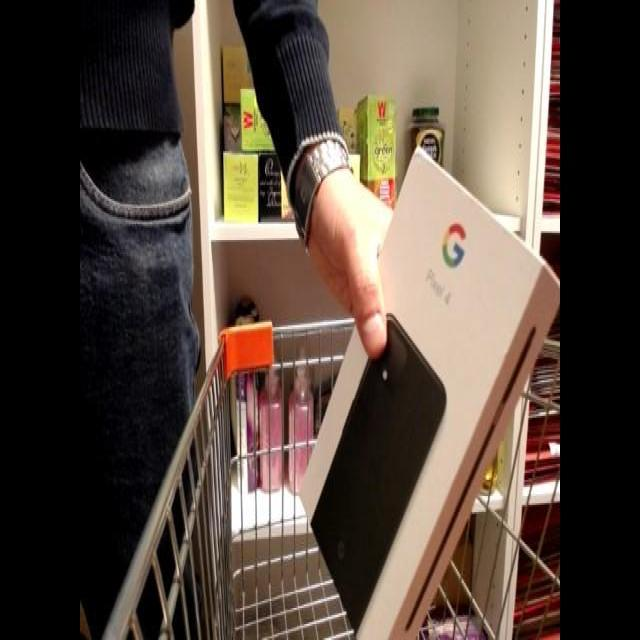Pixel 4: (288, 113, 562, 637)
